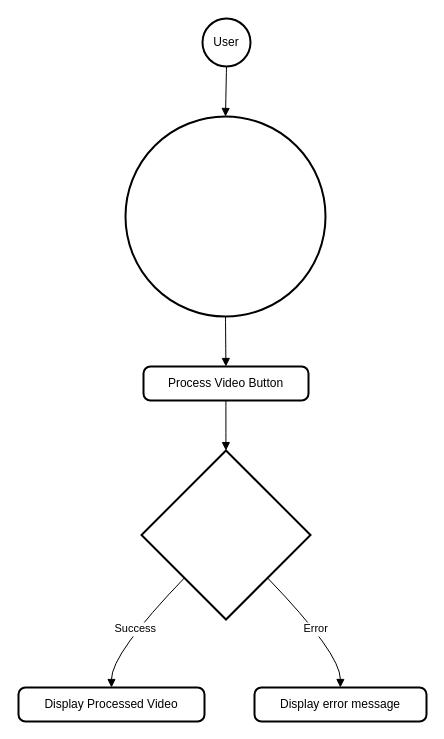
The diagram is 444 pixels wide and 739 high, and some of its shapes have lost their labels. Each missing label, with the centre of its shape:
Video Processing: [225,534]
Video Upload/Input block: [225,216]
